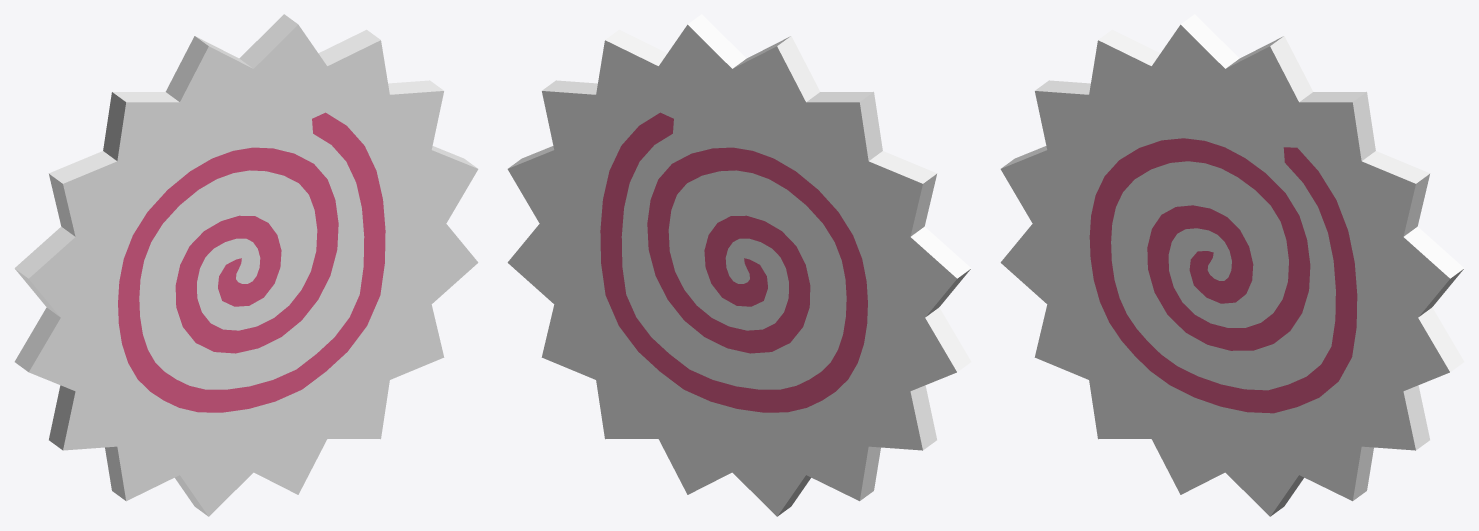
The model's file is fish_cake_with_swirl.gltf.
3 renders of one model, left to right at view 1: azimuth 30°, elevation 25°; view 2: azimuth 150°, elevation 25°; view 3: azimuth 330°, elevation 25°, orthographic.
Visible parts, largest first — view 1: Circle.2248; view 2: Circle.2248; view 3: Circle.2248.
Part boxes in pixels (box(x1,y1,x2,y2)): Circle.2248: box(14, 14, 478, 516); Circle.2248: box(507, 14, 971, 516); Circle.2248: box(1000, 14, 1464, 516).
Bounding box in the file's own units: 2.24 × 2.24 × 0.1229.
Materials: 1 (1 with a texture image).
